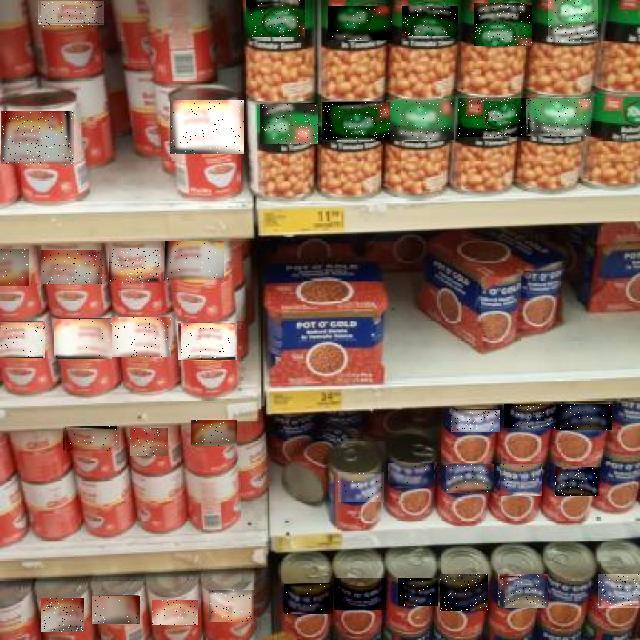Beans: (170, 100, 244, 154), (2, 112, 76, 166), (458, 98, 530, 137), (386, 100, 454, 140), (322, 102, 390, 140), (474, 3, 532, 46), (526, 99, 591, 136), (111, 317, 171, 357), (165, 242, 224, 282), (260, 104, 318, 144), (54, 319, 112, 359), (246, 0, 305, 37), (178, 323, 237, 360), (328, 6, 392, 40), (42, 250, 104, 284), (548, 0, 598, 42), (109, 248, 160, 283), (441, 574, 489, 611), (39, 2, 105, 28), (498, 574, 548, 608), (402, 6, 458, 36), (334, 578, 386, 610), (0, 322, 45, 358), (210, 590, 256, 622), (284, 584, 333, 614), (41, 599, 84, 633), (557, 405, 613, 431), (598, 574, 640, 608), (63, 426, 119, 451), (446, 464, 494, 493), (339, 472, 385, 502), (92, 596, 140, 624), (500, 464, 542, 496), (556, 467, 602, 496), (504, 404, 558, 428), (191, 420, 237, 446), (153, 600, 199, 625), (388, 463, 434, 488), (399, 579, 439, 607), (451, 410, 500, 432), (0, 249, 29, 286), (130, 429, 168, 457)
